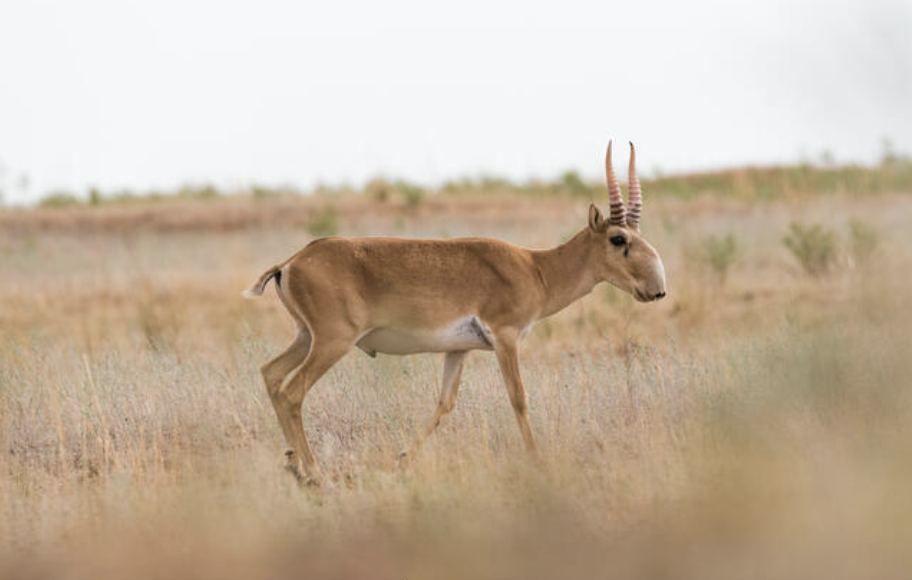saiga: (226, 137, 688, 489)
